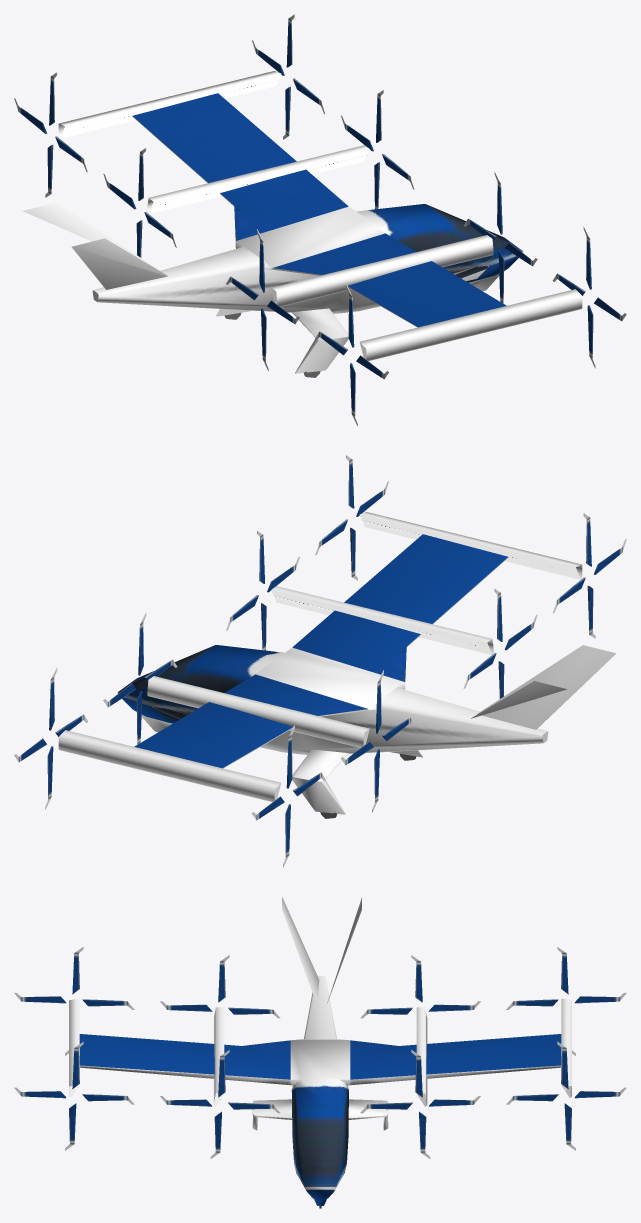
The model's file is evtol.lod1.glb.
3 renders of one model, top to bottom at view 1: azimuth 30°, elevation 25°; view 2: azimuth 150°, elevation 25°; view 3: azimuth 270°, elevation 25°, orthographic. The views are drawn at different scales.
Parts seen in each view (by area): view 1: eVTOL; view 2: eVTOL; view 3: eVTOL.
Boxes of the visible parts, left/top/right/bottom form: eVTOL: left=14, top=14, right=626, bottom=426; eVTOL: left=14, top=455, right=626, bottom=867; eVTOL: left=14, top=896, right=626, bottom=1208.
Size of the model in its own units: 8.62 by 3.32 by 12.
Materials: 1 (1 with a texture image).
